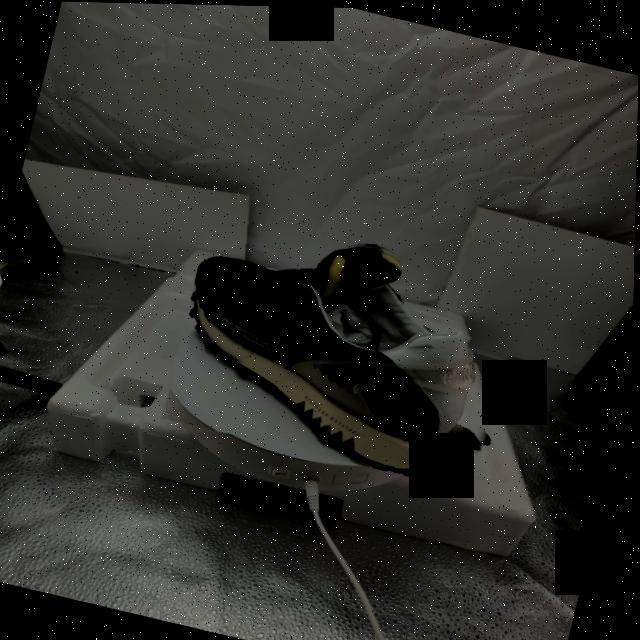shoe: (163, 203, 533, 491)
